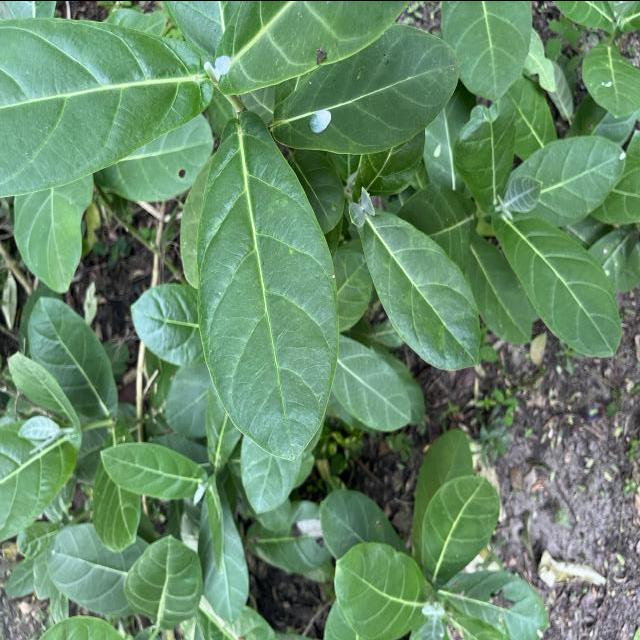Calotropis gigantea: (196, 108, 340, 464), (1, 12, 212, 196), (268, 23, 462, 157), (358, 210, 482, 372), (495, 207, 624, 359), (502, 132, 628, 228), (332, 537, 436, 640), (418, 472, 500, 580), (123, 531, 204, 630), (99, 440, 206, 500)
